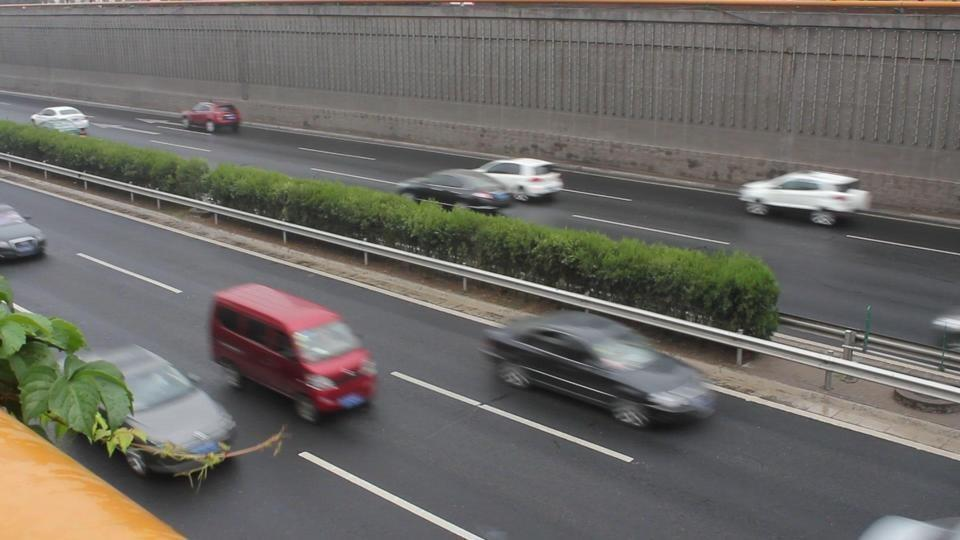car: (20, 341, 238, 485), (477, 312, 719, 430), (209, 281, 379, 424), (737, 173, 872, 226), (396, 170, 515, 214), (478, 158, 564, 202), (0, 203, 48, 261), (178, 100, 242, 135), (30, 106, 91, 137)
